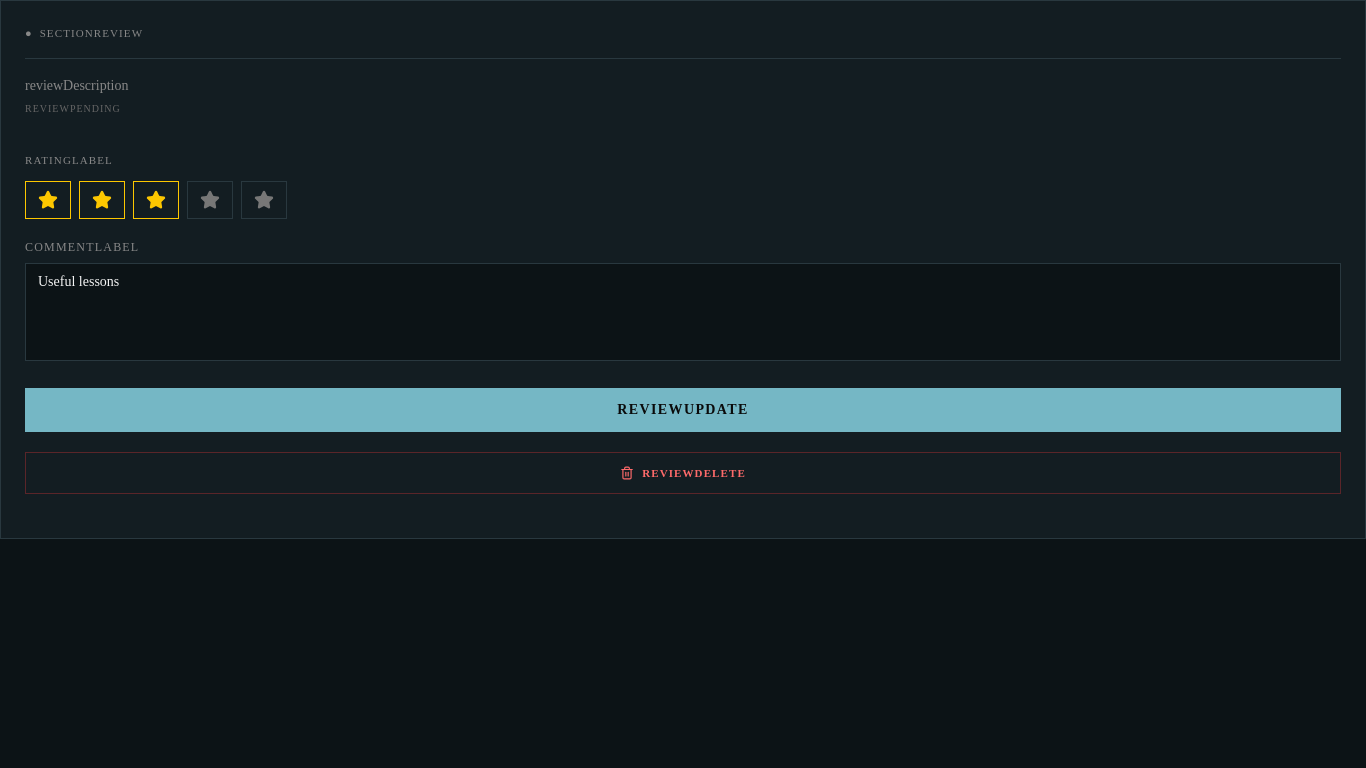
Test case: ReviewSection › confirms deletion, hides the existing review controls, and shows deleted state
Expected: the text "reviewPending" is shown, x1=25 y1=103 x2=121 y2=114
Click the button "reviewDelete".
click(683, 473)  # box x1=25 y1=452 x2=1341 y2=494
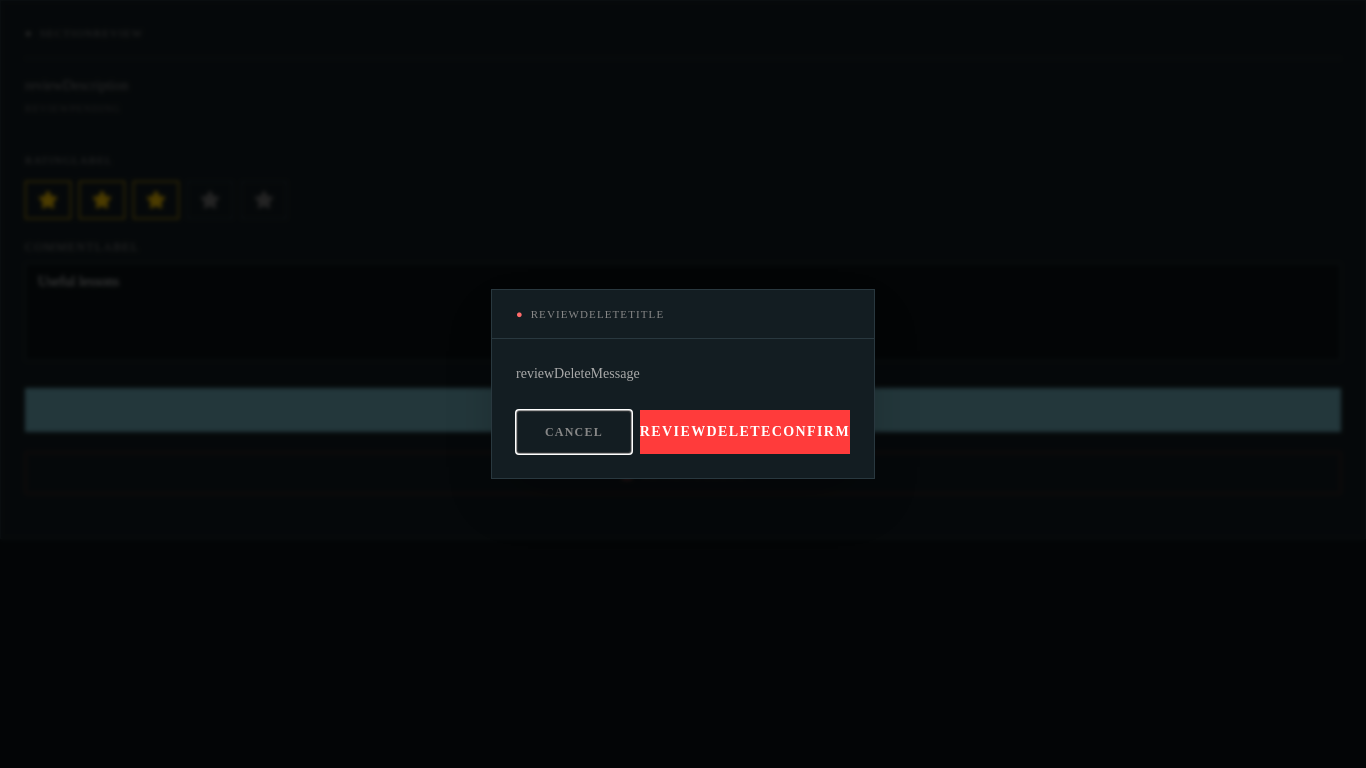
Result: the dialog is shown at x1=491 y1=289 x2=875 y2=479
Click the button "reviewDeleteConfirm".
click(745, 432)  # box x1=640 y1=410 x2=850 y2=454
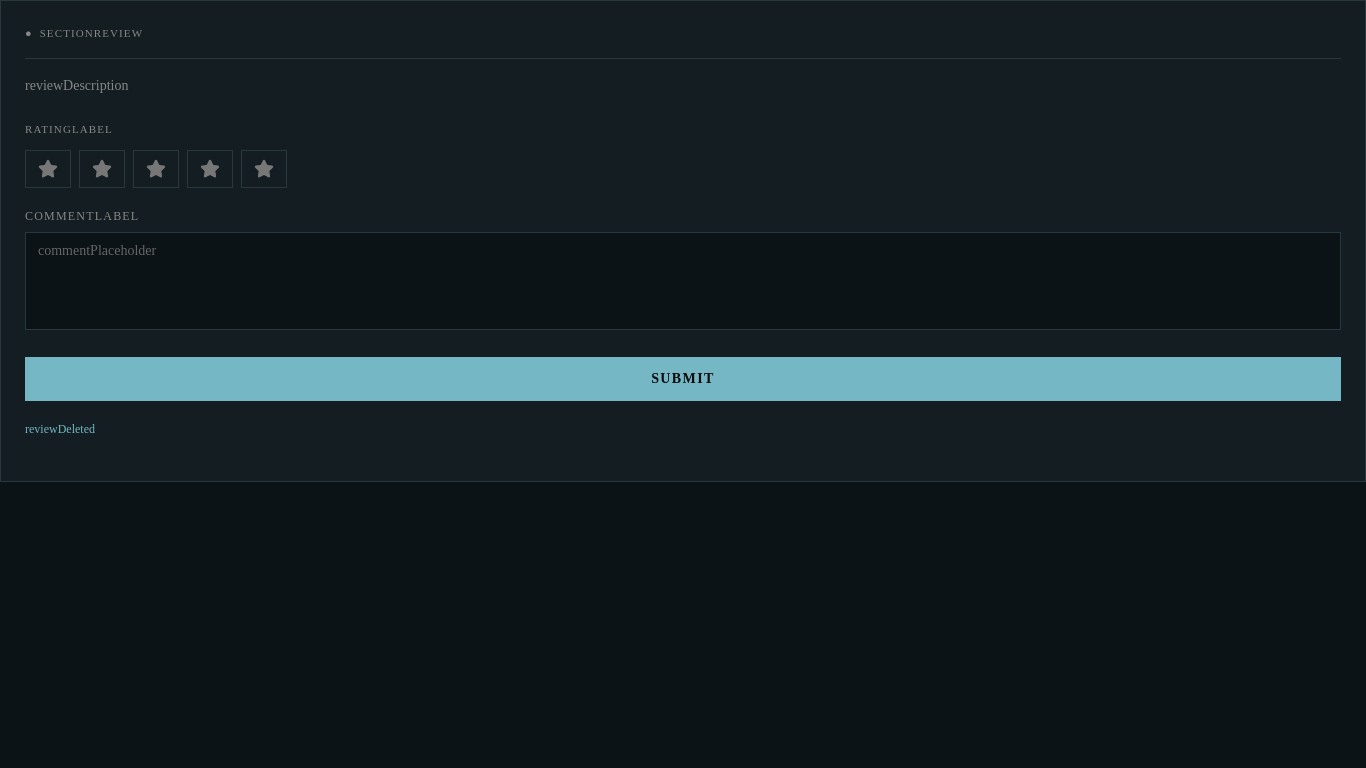
Result: the text "reviewDeleted" is shown at x1=25 y1=422 x2=95 y2=436
Result: the button "submit" is shown at x1=25 y1=357 x2=1341 y2=401
